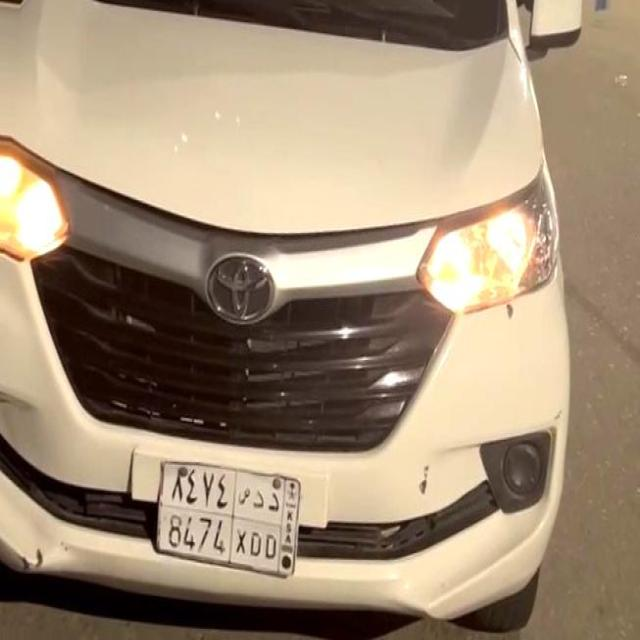Car-plate: (140, 434, 312, 601)
